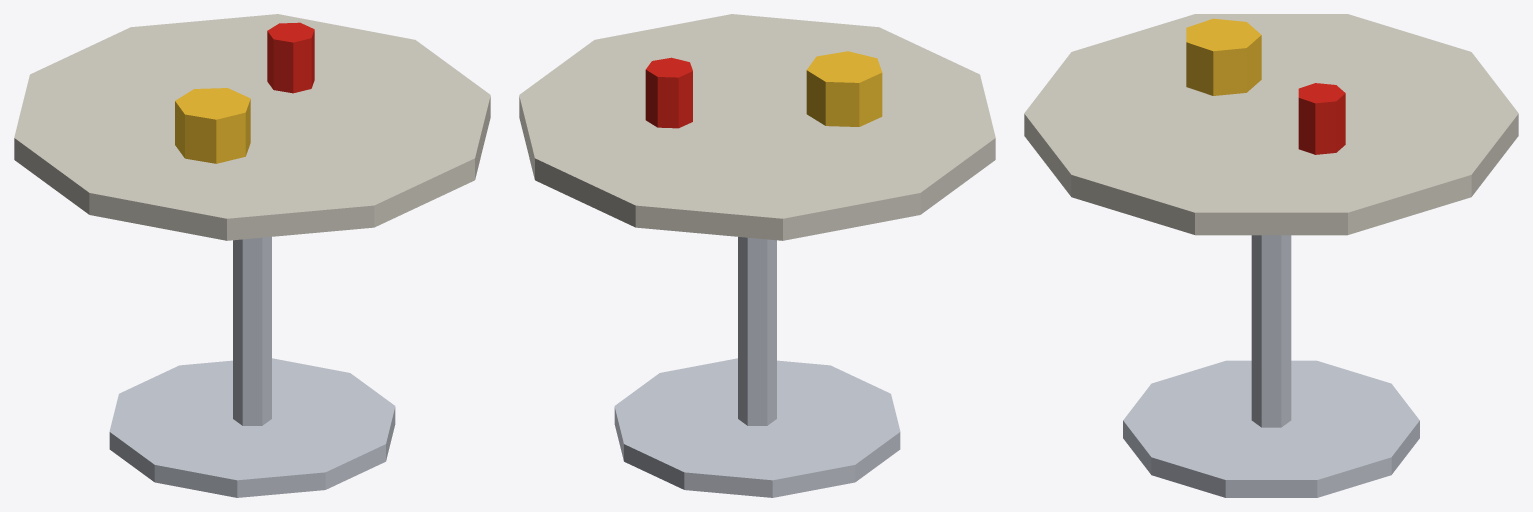
File: lounge_table.glb
3 views of the same model, side by side, from view 1: azimuth 30°, elevation 25°; view 2: azimuth 150°, elevation 25°; view 3: azimuth 270°, elevation 25° (orthographic).
Visible parts, largest first — view 1: lounge_table; view 2: lounge_table; view 3: lounge_table.
Boxes of the visible parts, x1,y1,x2,y2 form: lounge_table: (14,14,490,497); lounge_table: (519,14,995,497); lounge_table: (1024,14,1518,497).
Size of the model in its own units: 0.9511 by 0.84 by 1.
